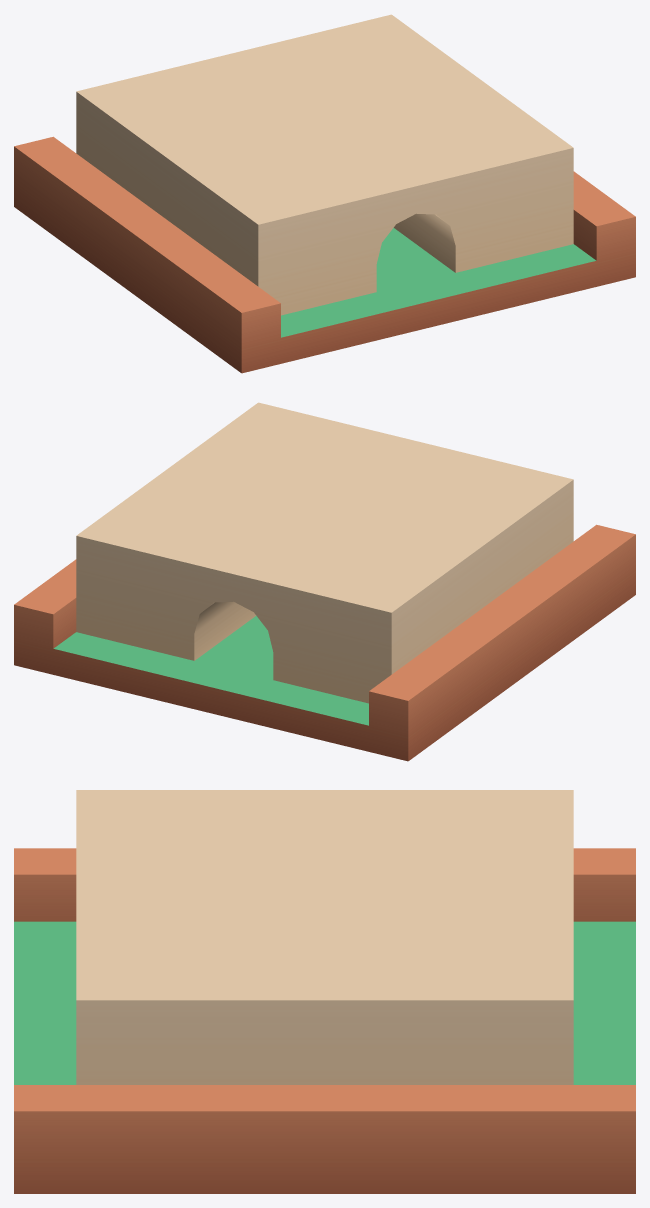
File: tunnel-narrow.glb
3 renders of one model, top to bottom at view 1: azimuth 30°, elevation 25°; view 2: azimuth 150°, elevation 25°; view 3: azimuth 270°, elevation 25°, orthographic. The views are drawn at different scales.
Parts seen in each view (by area): view 1: tunnel-narrow; view 2: tunnel-narrow; view 3: tunnel-narrow.
Boxes of the visible parts, x1,y1,x2,y2 form: tunnel-narrow: (14,14,635,373); tunnel-narrow: (14,402,635,761); tunnel-narrow: (14,790,635,1193).
Bounding box in the file's own units: 0.9999 × 0.2966 × 0.9999.
Materials: 1 (1 with a texture image).
